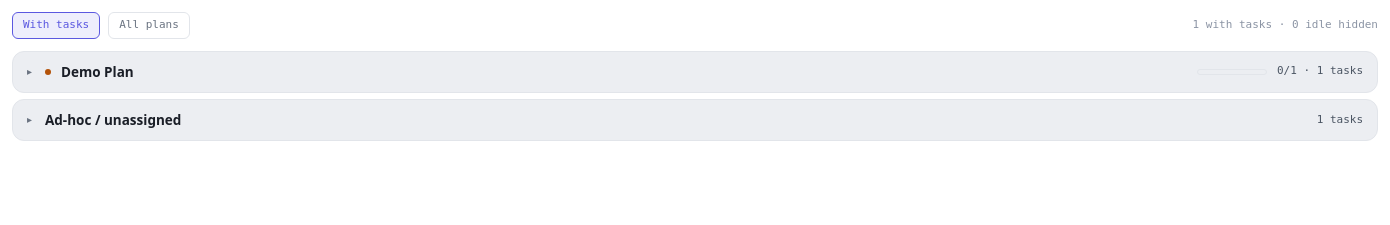
Test: renders the plan collapsed, then expands to reveal its phase and task
Expected: the element with test id "task-tree-plan" is shown, [12,50,1378,93]
Expected: the text "Wire the store" is not shown
Click the text "Demo Plan". click: (97, 72)
box: [61,62,134,80]
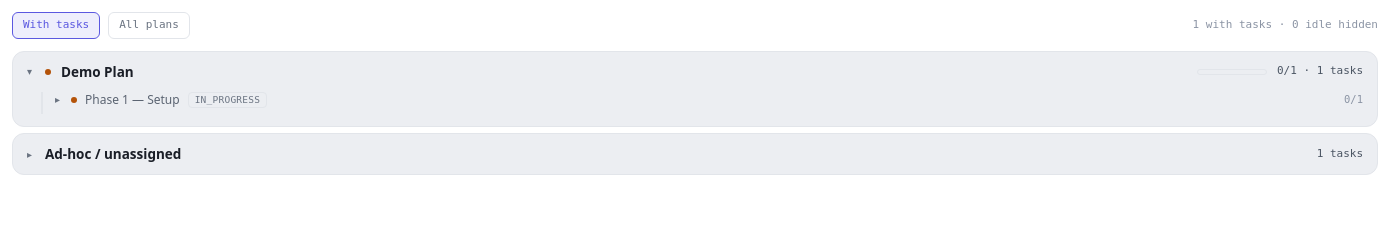
Click the text "Phase 1 — Setup". click: (132, 100)
box: [85,92,180,108]
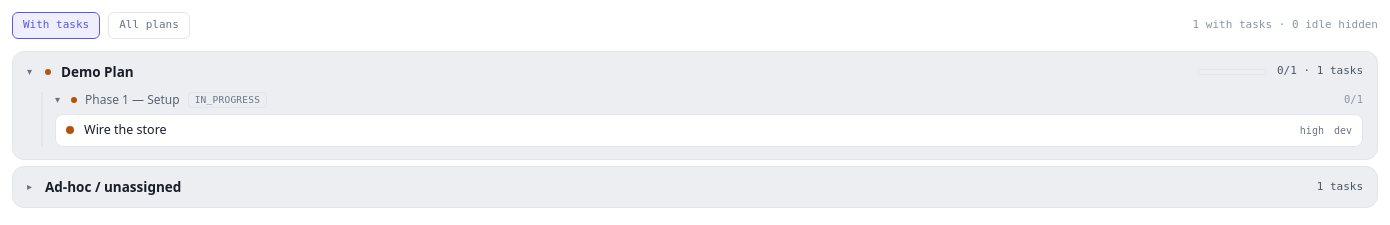
Expected: the text "Wire the store" is shown, [84,121,167,138]
